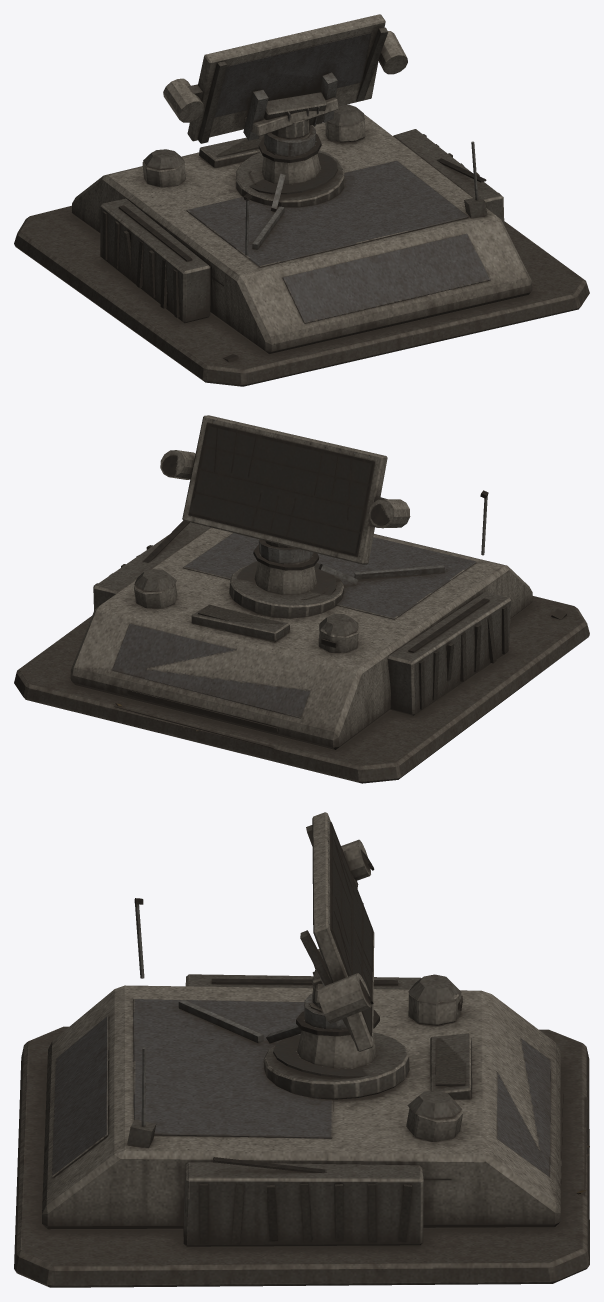
File: ord_witness_wreck.fbx
The picture shows the model from 3 angles, top to bottom: view 1: azimuth 30°, elevation 25°; view 2: azimuth 150°, elevation 25°; view 3: azimuth 270°, elevation 25°; orthographic projection. The views are drawn at different scales.
Visible parts, largest first — view 1: base_bar, dish_bar; view 2: base_bar, dish_bar; view 3: base_bar, dish_bar.
Boxes of the visible parts, bbox=[...] form: base_bar: bbox=[14, 104, 589, 386]; dish_bar: bbox=[163, 14, 407, 143]; base_bar: bbox=[14, 490, 589, 783]; dish_bar: bbox=[160, 415, 410, 564]; base_bar: bbox=[14, 898, 589, 1287]; dish_bar: bbox=[300, 812, 374, 1051].
Bounding box in the file's own units: 1568 × 1093 × 1566.
2 materials, 2 textured.
